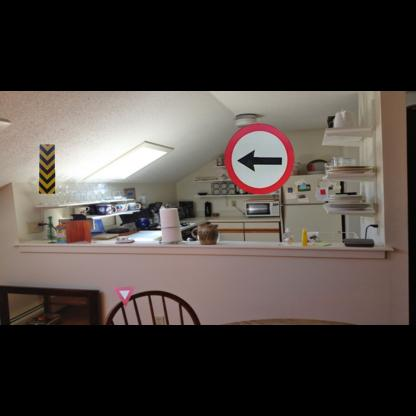O-MP: (39, 144, 55, 194)
R-24a: (224, 123, 295, 194)
